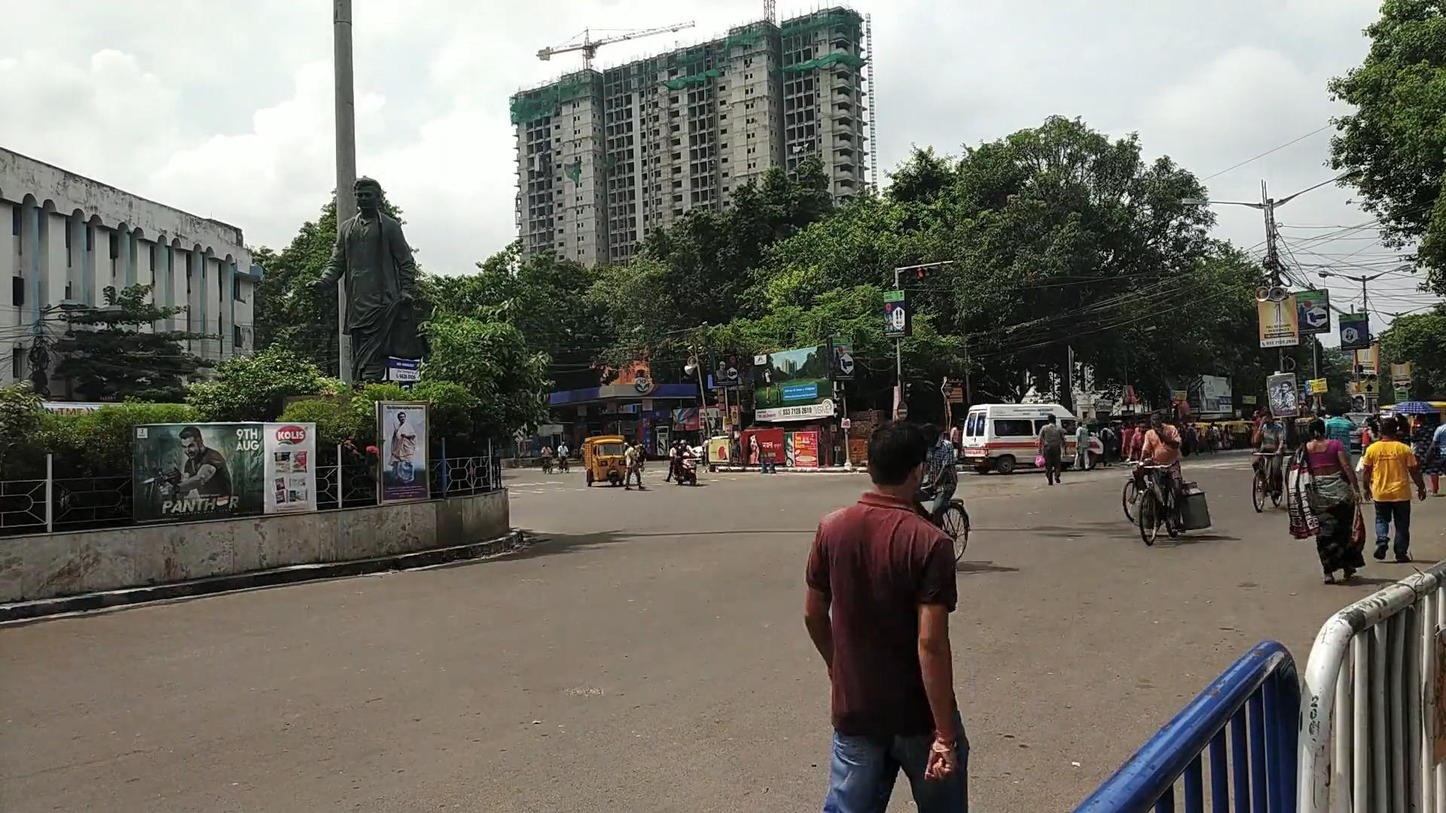bicyclist: (1135, 410, 1184, 546), (1251, 408, 1284, 512)
no-helmet: (866, 421, 927, 501)
